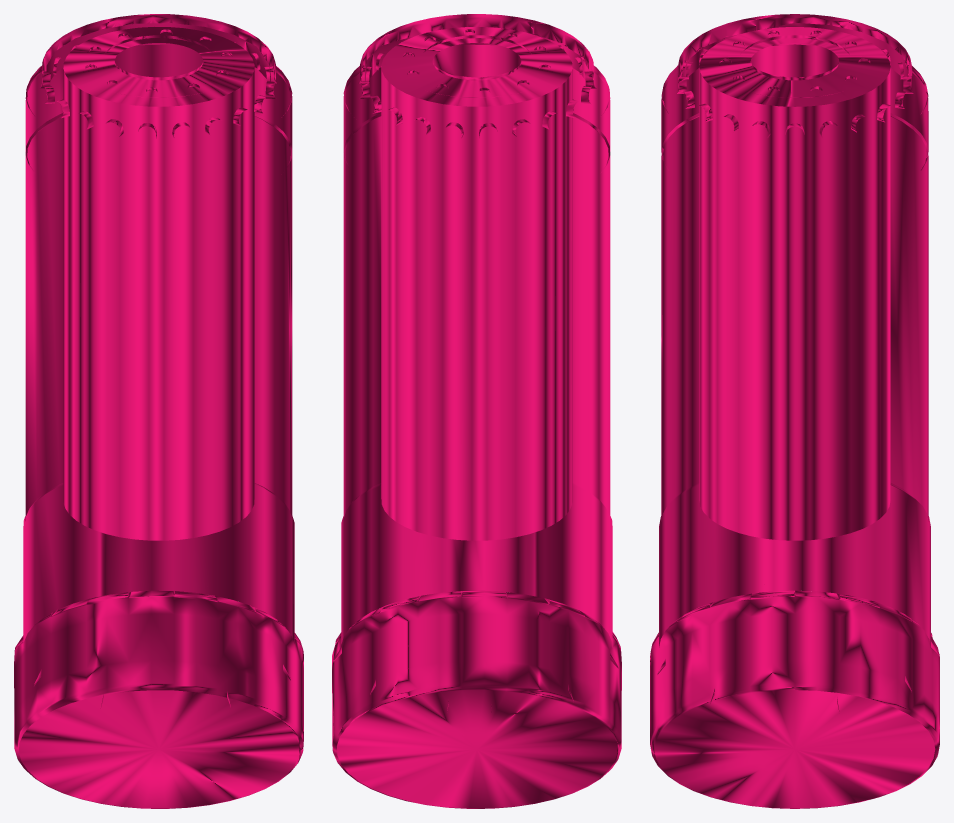
The model's file is trashcan_grunge_deluxe_prop_uee_01.glb.
3 views of the same model, side by side, from view 1: azimuth 30°, elevation 25°; view 2: azimuth 150°, elevation 25°; view 3: azimuth 270°, elevation 25° (orthographic).
Size of the model in its own units: 0.494 by 1.3 by 0.494.
